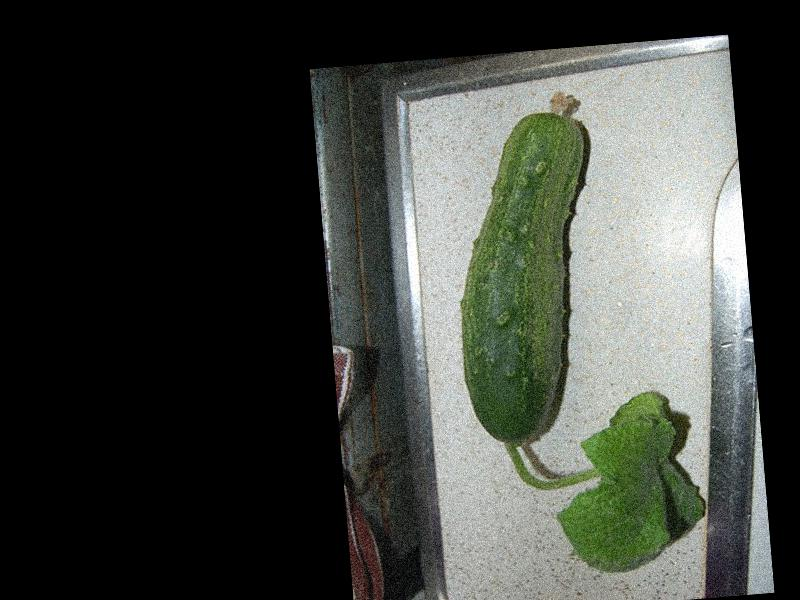Cucumber: (440, 89, 611, 451)
